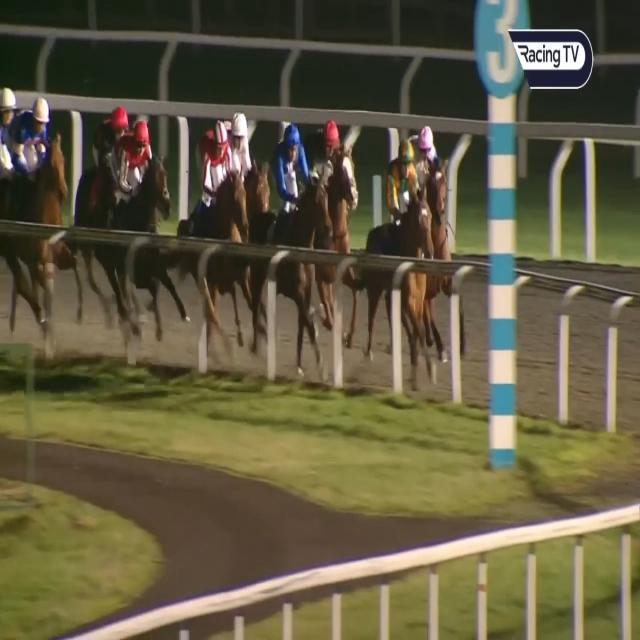horses-racing: (269, 127, 332, 319), (191, 120, 253, 306), (375, 142, 434, 334), (14, 95, 61, 275), (220, 111, 275, 262), (309, 111, 367, 248), (119, 118, 168, 270), (411, 126, 456, 266), (93, 98, 138, 234), (0, 75, 20, 175)
